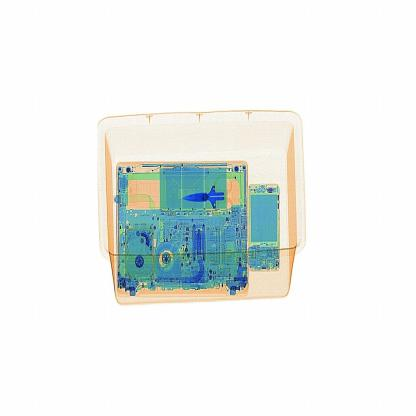gun: (175, 166, 242, 220)
